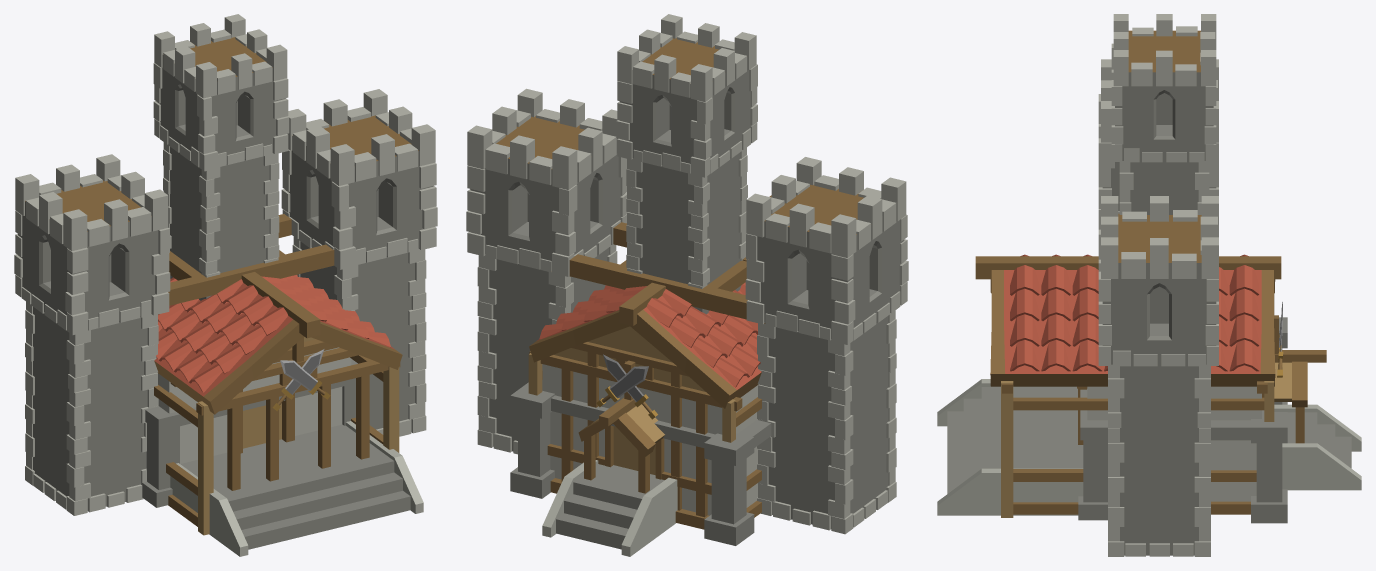
Rendered from Barracks-UXCOwRBSxx.glb.
3 views of the same model, side by side, from view 1: azimuth 30°, elevation 25°; view 2: azimuth 150°, elevation 25°; view 3: azimuth 270°, elevation 25° (orthographic). The views are drawn at different scales.
Parts seen in each view (by area): view 1: Barracks-UXCOwRBSxx; view 2: Barracks-UXCOwRBSxx; view 3: Barracks-UXCOwRBSxx.
Part boxes in pixels (x1,y1,x2,y2): Barracks-UXCOwRBSxx: [14, 14, 437, 556]; Barracks-UXCOwRBSxx: [466, 14, 908, 556]; Barracks-UXCOwRBSxx: [937, 14, 1361, 556].
Size of the model in its own units: 1.71 by 1.85 by 1.64.
